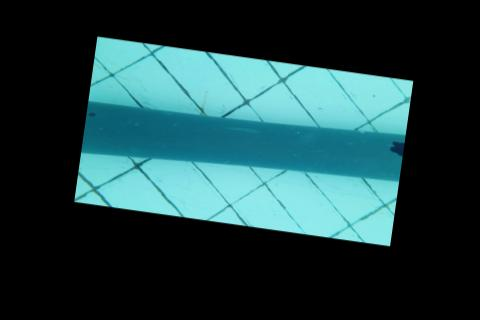kebocoran: (387, 138, 404, 156)
